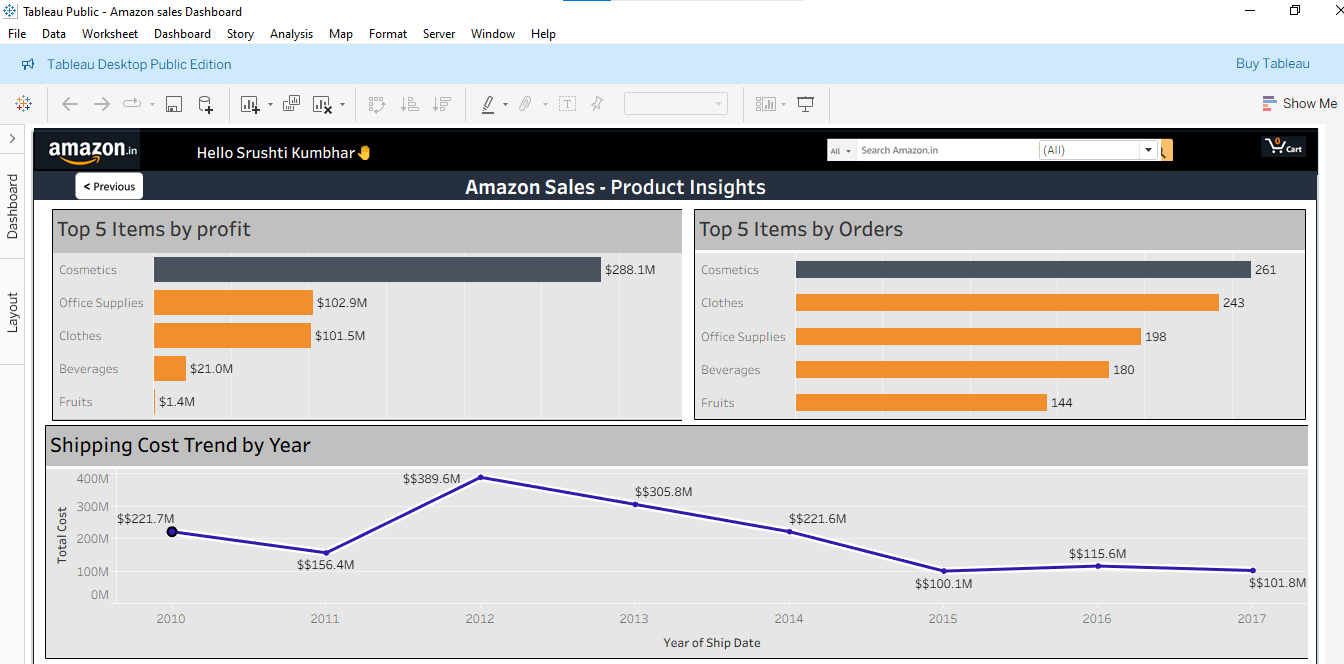

The dashboard page shown, as its layout file describes it:
{"tool":"tableau","page":{"name":"Product Insights","canvas":[1000,1000],"units":"permille","ordinal":2},"visuals":[{"type":"blank","box":[6.9,5,987.9,67.5]},{"type":"image","param":"C:/Users/admin/Downloads/Amazon logo.png","box":[7.9,5,141.2,58.8]},{"type":"text","box":[129.9,17.5,250.2,47.5]},{"type":"image","param":"C:/Users/admin/Pictures/amazon cart logo.png","box":[950.3,17.5,37.5,51.2]},{"type":"image","param":"C:/Users/admin/Downloads/search amazon logo.png","box":[617.3,20,319.1,32.5]},{"type":"filter","title":"Top 5 Items by Orders","param":"[federated.1hcheni0yyo0dx119ksin1oaorww].[none:Item Type:nk]","box":[722.6,21.4,151.9,31.4]},{"type":"blank","box":[6.9,67.5,987,41.2]},{"type":"dashboard-object","box":[17.6,68.8,94.8,42.5]},{"type":"text","box":[295,70,318,37.1]},{"type":"worksheet","title":"Top 5 Items by profit","mark":"Automatic","rows":["Item Type"],"cols":["Calculation_752382669453762560"],"box":[20.6,121.4,485.1,302.9]},{"type":"worksheet","title":"Top 5 Items by Orders","mark":"Automatic","rows":["Item Type"],"cols":["Calculation_752382669468770305"],"box":[515,121.4,471,301.4]},{"type":"image","param":"C:/Users/admin/AppData/Local/Temp/TableauTemp/1xeyky40ff1qva1d7s40w0iffvp9/Sheet","box":[219.5,128.8,158.9,96.2]},{"type":"worksheet","title":"Shipment Per Year","mark":"Automatic","rows":["Total Cost"],"cols":["Ship Date"],"box":[15,430,972,334.3]}]}

Visuals, with their boxes on the dashboard's canvas, which has no fixed pixel size, in thousandths of its width and height (x1, y1, x2, y2). These are canvas units, not pixel positions in the 1344x664 screenshot, which may show the page scaled, cropped or inside an application window:
blank: [x1=7, y1=5, x2=995, y2=72]
image: [x1=8, y1=5, x2=149, y2=64]
text: [x1=130, y1=18, x2=380, y2=65]
image: [x1=950, y1=18, x2=988, y2=69]
image: [x1=617, y1=20, x2=936, y2=52]
"Top 5 Items by Orders" filter: [x1=723, y1=21, x2=874, y2=53]
blank: [x1=7, y1=68, x2=994, y2=109]
dashboard-object: [x1=18, y1=69, x2=112, y2=111]
text: [x1=295, y1=70, x2=613, y2=107]
"Top 5 Items by profit" worksheet: [x1=21, y1=121, x2=506, y2=424]
"Top 5 Items by Orders" worksheet: [x1=515, y1=121, x2=986, y2=423]
image: [x1=220, y1=129, x2=378, y2=225]
"Shipment Per Year" worksheet: [x1=15, y1=430, x2=987, y2=764]
